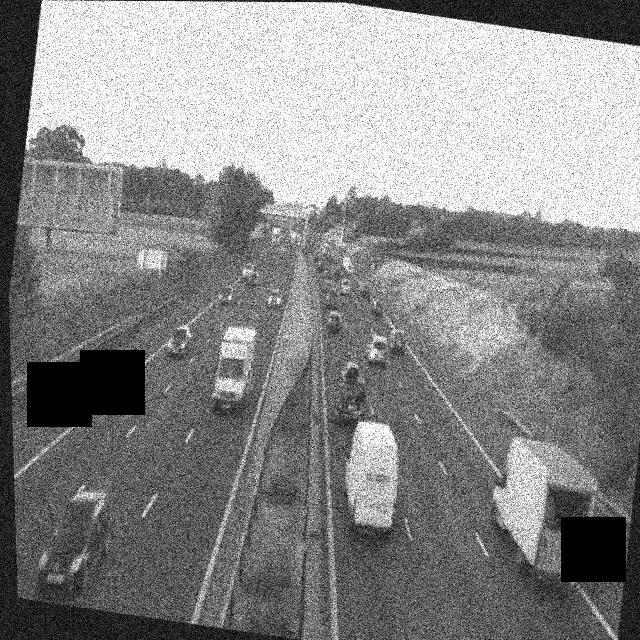car: (32, 481, 119, 603), (331, 360, 372, 429), (167, 323, 194, 358), (365, 332, 392, 365), (386, 327, 407, 355), (324, 308, 342, 334), (218, 283, 236, 305), (267, 287, 283, 309), (323, 287, 340, 307), (241, 264, 255, 283), (339, 279, 353, 297), (371, 299, 385, 315), (359, 282, 372, 299), (320, 261, 332, 276)
truck: (480, 435, 606, 594), (334, 417, 408, 540), (208, 324, 261, 414), (341, 254, 354, 274)
